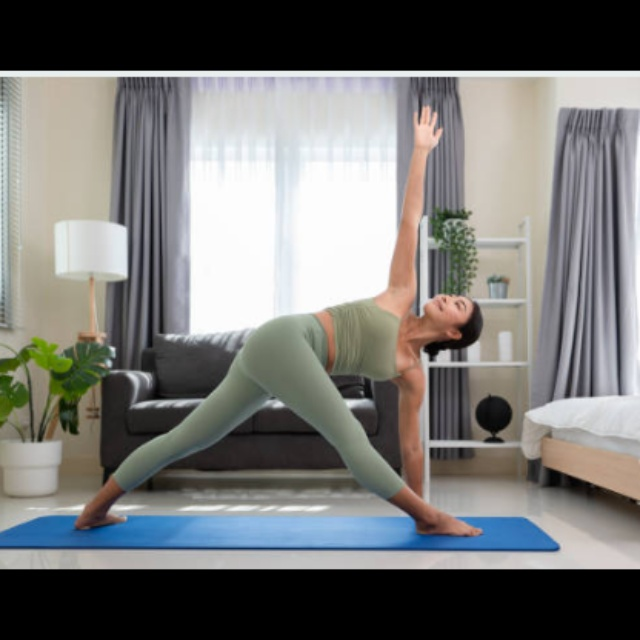Triangle_Pose: (53, 101, 500, 541)
